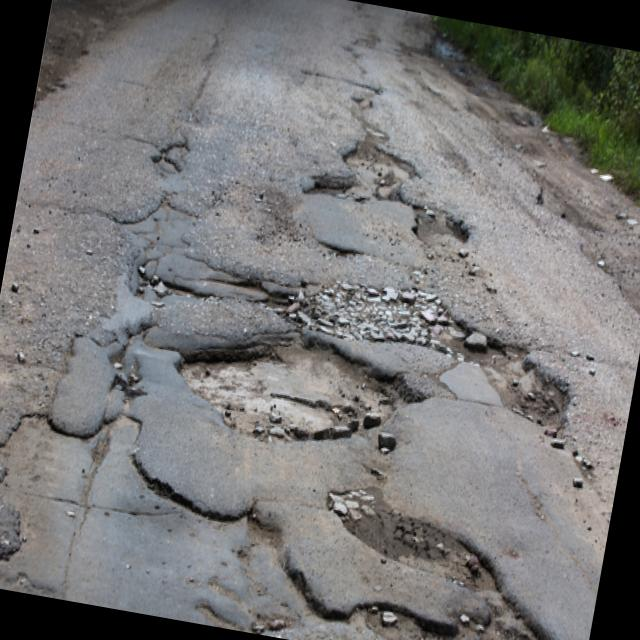Potholes: (0, 382, 340, 640), (319, 478, 609, 640), (178, 312, 422, 482), (300, 111, 495, 273), (404, 283, 576, 451)
